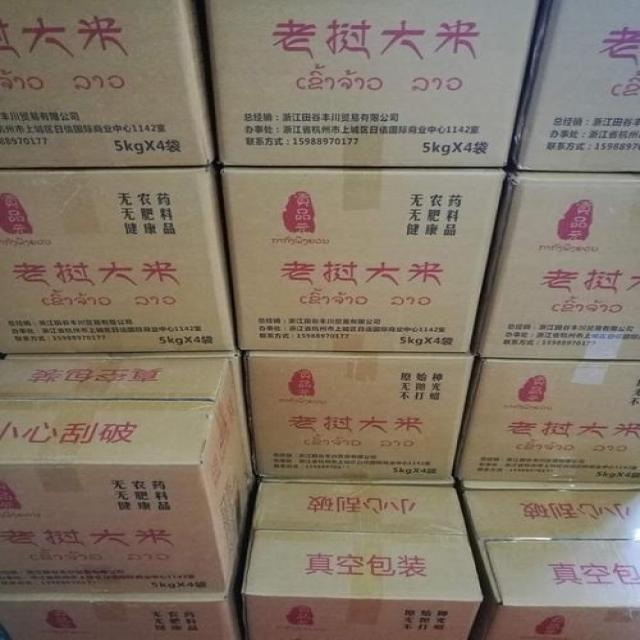box: (0, 359, 251, 594), (202, 1, 538, 168), (220, 167, 506, 352), (0, 163, 238, 354), (241, 483, 483, 640), (1, 1, 216, 170), (4, 351, 256, 483), (470, 169, 640, 361), (243, 350, 474, 480), (460, 490, 640, 640), (452, 358, 640, 483), (506, 0, 640, 174), (0, 564, 244, 640), (460, 480, 640, 491)
